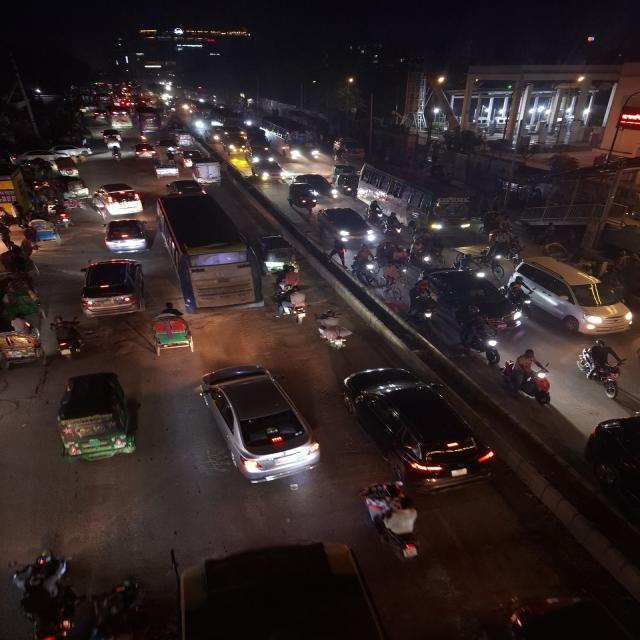bus: (154, 193, 259, 320), (356, 160, 478, 234), (261, 117, 320, 162), (138, 109, 162, 132)
car: (338, 363, 502, 487), (189, 362, 322, 488), (510, 256, 636, 336), (432, 268, 520, 328), (76, 256, 148, 320), (316, 204, 377, 246), (99, 216, 151, 254), (91, 182, 144, 216), (288, 172, 341, 200), (288, 182, 320, 216), (249, 157, 286, 184), (164, 178, 207, 196), (50, 143, 94, 160), (152, 158, 181, 179), (132, 142, 158, 160), (100, 128, 124, 142)
cng: (48, 370, 141, 468), (582, 411, 640, 525), (257, 232, 302, 276), (42, 174, 92, 206), (288, 182, 320, 216), (332, 163, 358, 193), (221, 134, 242, 156)
motorcycle: (6, 548, 81, 640), (358, 480, 430, 566), (89, 573, 152, 640), (575, 337, 627, 401), (501, 347, 555, 407), (313, 302, 364, 356), (456, 311, 502, 366), (402, 282, 441, 330), (49, 314, 87, 361), (274, 284, 313, 326), (350, 242, 379, 285), (276, 262, 306, 294), (47, 199, 74, 229), (384, 210, 406, 238), (108, 144, 124, 162)
pedestrian: (0, 220, 14, 250)
rickshaw: (142, 301, 199, 359), (0, 316, 45, 371), (2, 279, 44, 317), (38, 175, 89, 203), (0, 166, 23, 213)
truck: (240, 131, 278, 173), (188, 156, 224, 184)
